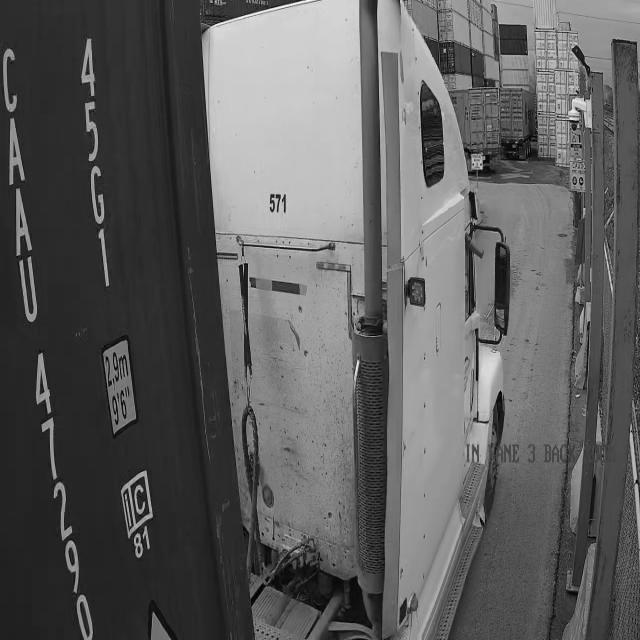container_side_no: (0, 34, 104, 639)
truck_with_container: (0, 0, 510, 639)
